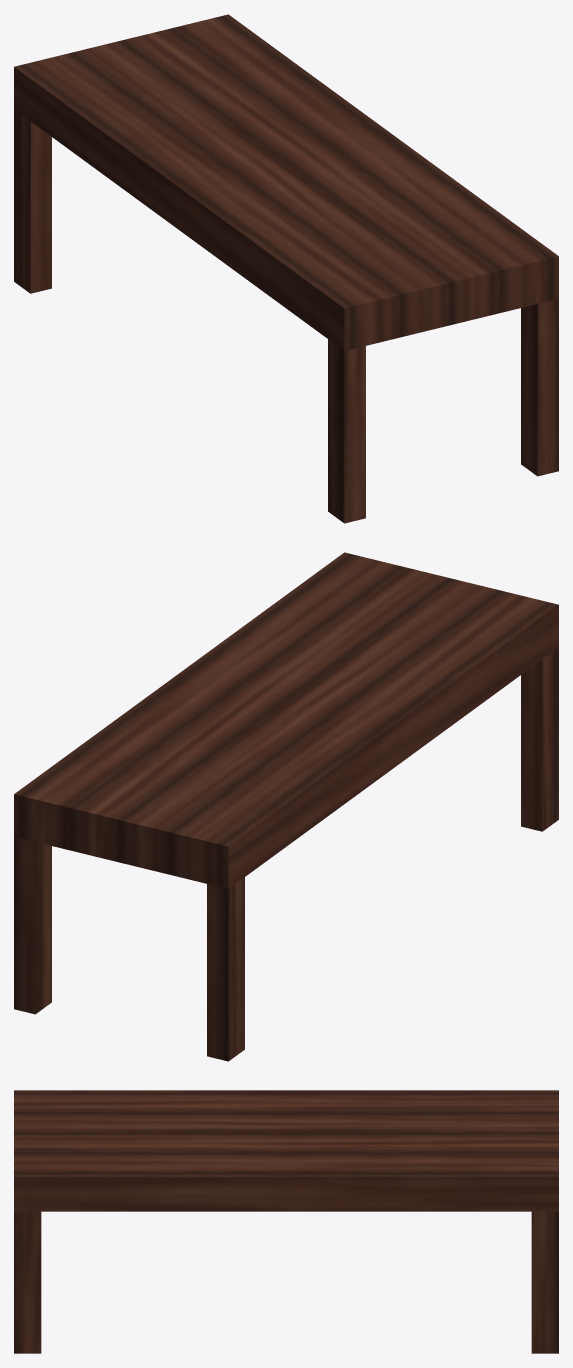
The model's file is co_TableWoodRect_02.fbx.
3 renders of one model, top to bottom at view 1: azimuth 30°, elevation 25°; view 2: azimuth 150°, elevation 25°; view 3: azimuth 270°, elevation 25°, orthographic. The views are drawn at different scales.
Parts seen in each view (by area): view 1: TableWoodRect_02; view 2: TableWoodRect_02; view 3: TableWoodRect_02.
Boxes of the visible parts, box(x1,y1,x2,y2) form: TableWoodRect_02: box(14, 14, 558, 523); TableWoodRect_02: box(14, 552, 558, 1061); TableWoodRect_02: box(14, 1090, 558, 1353).
Size of the model in its own units: 216 by 207 by 576.
